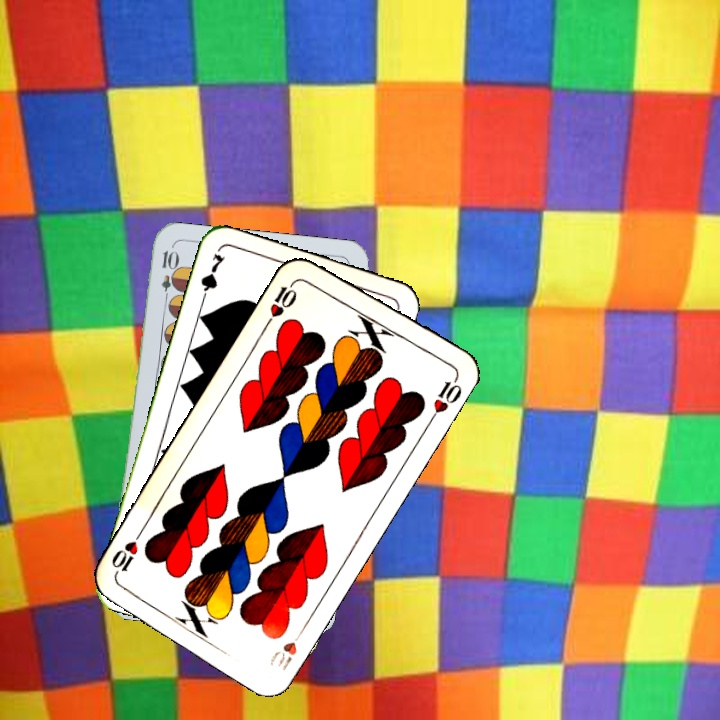E10: (157, 247, 178, 306)
G7: (196, 250, 228, 307)
H10: (265, 622, 309, 673), (266, 275, 301, 320)
